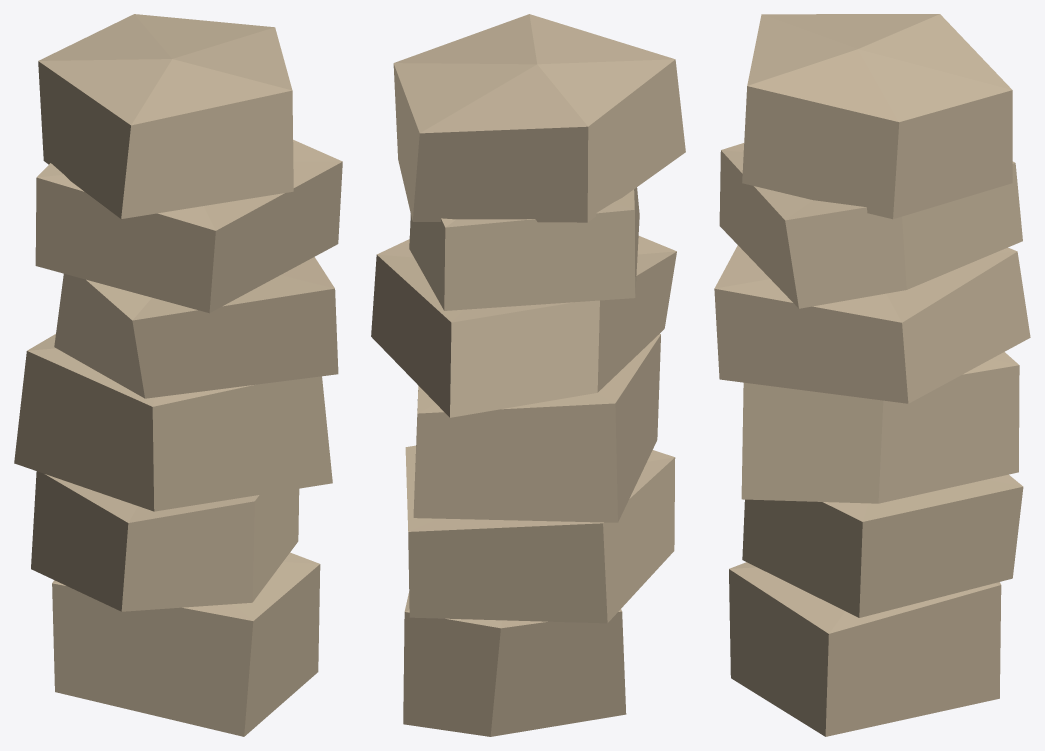
File: LightSandStoneColumnSmallBrick1.fbx
The picture shows the model from 3 angles, left to right: view 1: azimuth 30°, elevation 25°; view 2: azimuth 150°, elevation 25°; view 3: azimuth 270°, elevation 25°; orthographic projection.
Visible parts, largest first — view 1: LightSandStoneColumnSmallBrick1; view 2: LightSandStoneColumnSmallBrick1; view 3: LightSandStoneColumnSmallBrick1.
Boxes of the visible parts, left/top/right/bottom form: LightSandStoneColumnSmallBrick1: left=14, top=14, right=342, bottom=736; LightSandStoneColumnSmallBrick1: left=371, top=14, right=685, bottom=736; LightSandStoneColumnSmallBrick1: left=714, top=14, right=1030, bottom=736.
Bounding box in the file's own units: 105 × 243 × 111.
